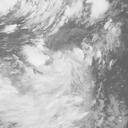cyclone: (38, 48, 84, 97)
